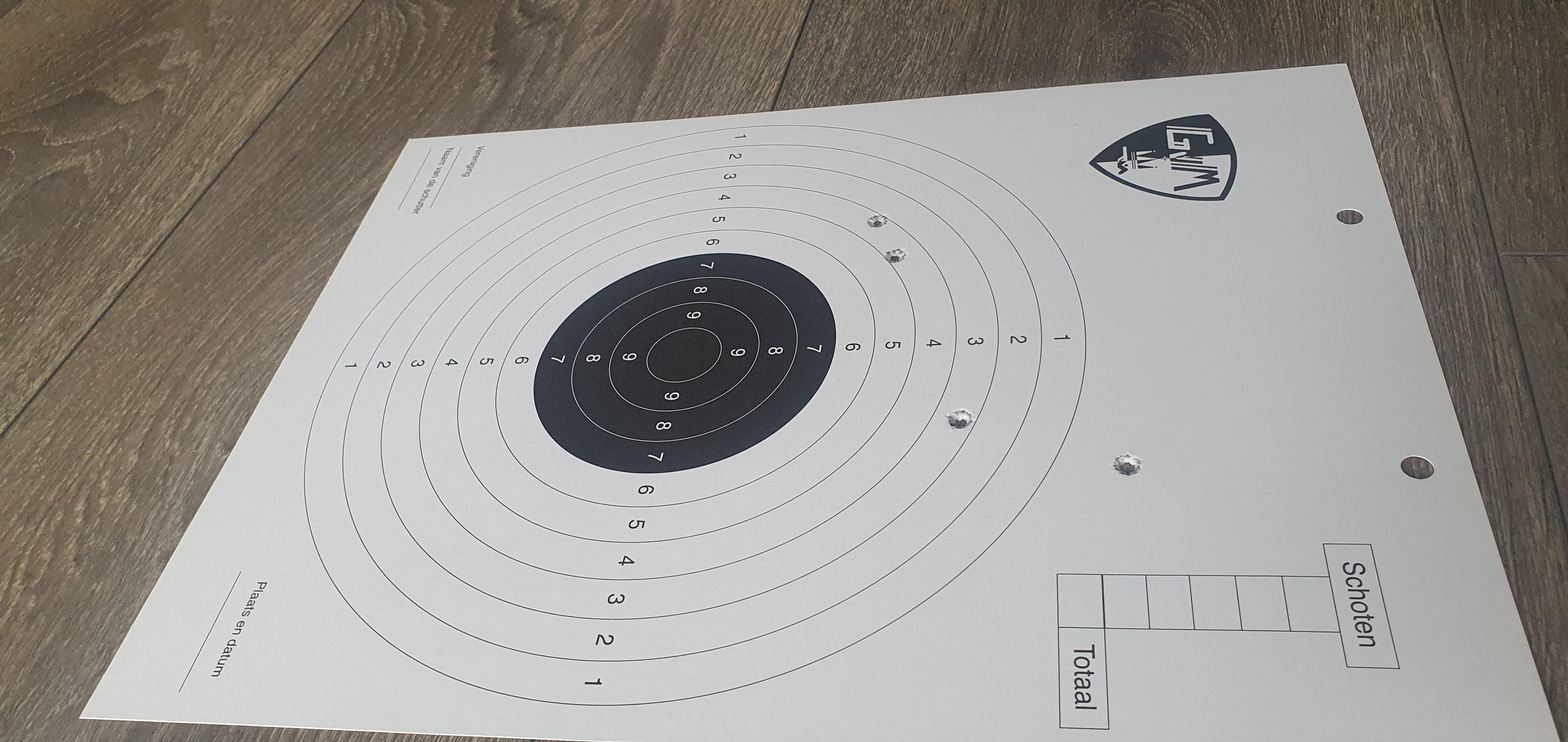hole: (1111, 451, 1144, 477), (945, 408, 975, 431), (885, 248, 908, 264), (867, 214, 890, 229)
